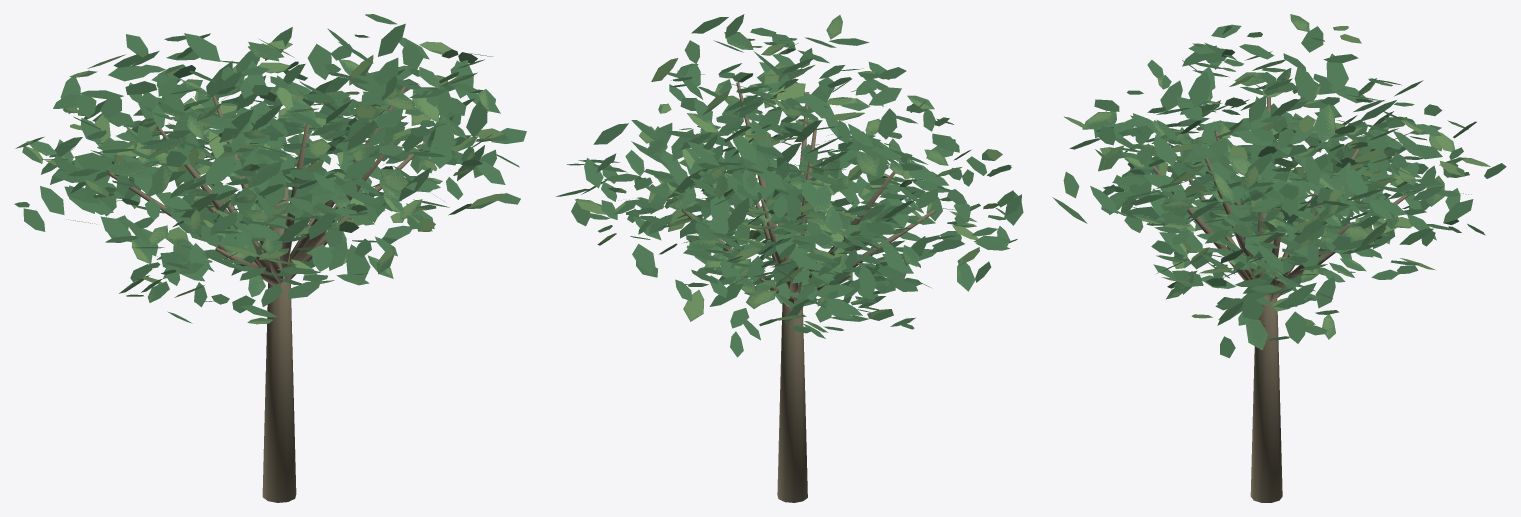
Rendered from tree.glb.
3 renders of one model, left to right at view 1: azimuth 30°, elevation 25°; view 2: azimuth 150°, elevation 25°; view 3: azimuth 270°, elevation 25°, orthographic. The views are drawn at different scales.
Parts seen in each view (by area): view 1: tree_leaf, tree_leaflight, tree_bark; view 2: tree_leaf, tree_leaflight, tree_bark; view 3: tree_leaf, tree_leaflight, tree_bark.
Part boxes in pixels (left/top/right/bottom): tree_leaf: left=14, top=14, right=526, bottom=324; tree_leaflight: left=16, top=21, right=513, bottom=323; tree_bark: left=108, top=86, right=425, bottom=502; tree_leaf: left=556, top=14, right=1023, bottom=357; tree_leaflight: left=575, top=15, right=1007, bottom=330; tree_bark: left=650, top=82, right=935, bottom=502; tree_leaf: left=1052, top=14, right=1506, bottom=358; tree_leaflight: left=1064, top=15, right=1490, bottom=349; tree_bark: left=1152, top=97, right=1408, bottom=502.
Size of the model in its own units: 7.53 by 7.55 by 7.12.
